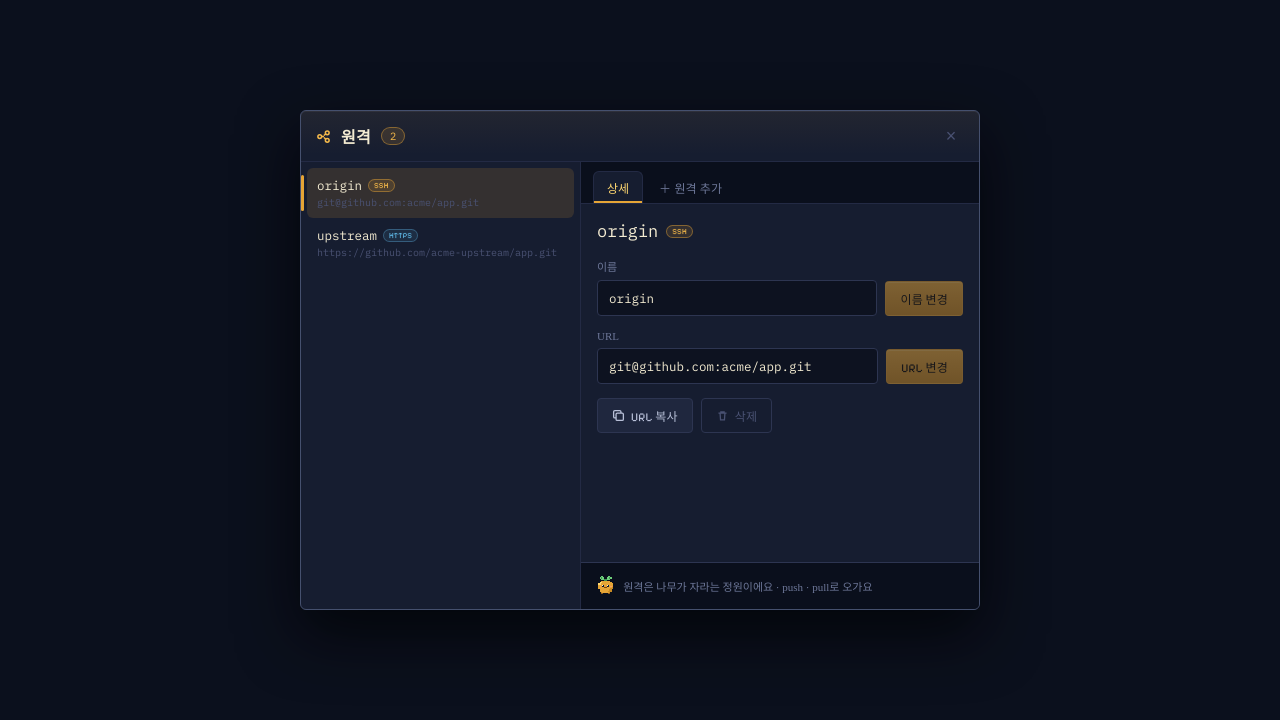
Test: RemoteManagerModal — 삭제(확인 모달) › 현재 브랜치가 추적 중인 원격 삭제 시 확인 문구에 Pull·Push 경고를 덧붙인다
The image size is (1280, 720).
Expected: the text "git@github.com:acme/app.git" is shown, left=317, top=196, right=479, bottom=209
Click the button "삭제".
click(737, 416)  # box left=701, top=398, right=772, bottom=433
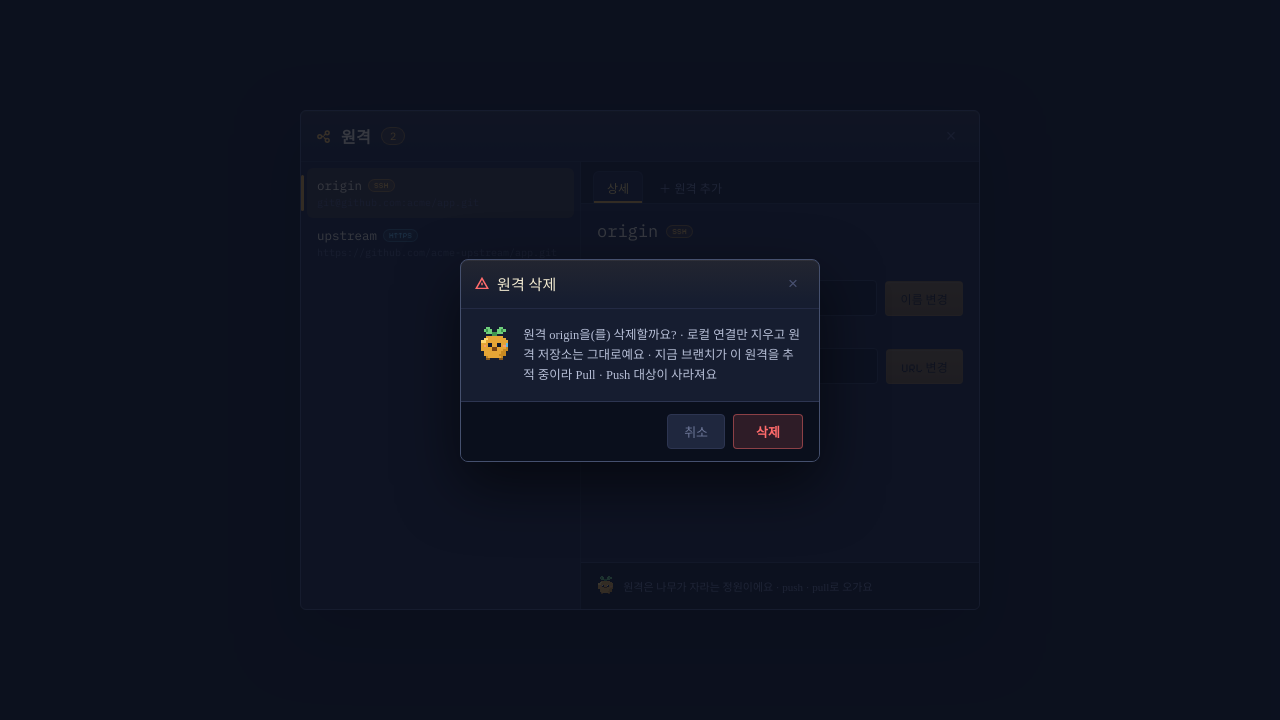
Expected: the text "Pull · Push 대상이 사라져요" is shown, left=523, top=328, right=800, bottom=382
